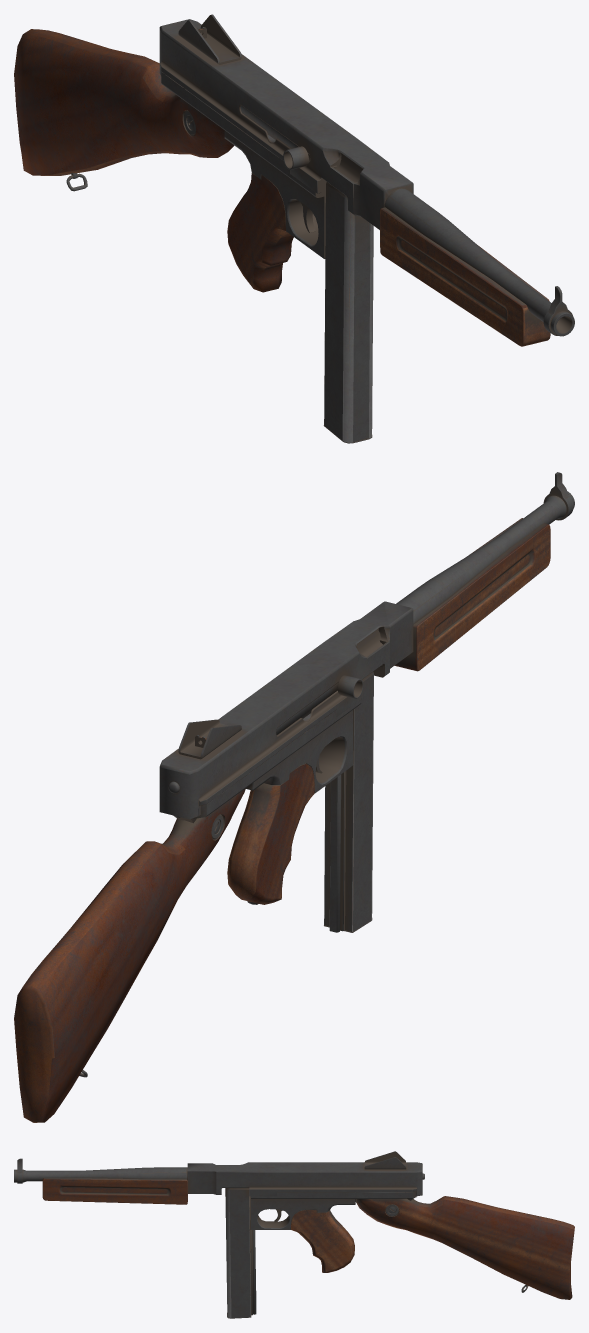
Rendered from thompson_submachine_gun.glb.
3 views of the same model, one above another, from view 1: azimuth 30°, elevation 25°; view 2: azimuth 150°, elevation 25°; view 3: azimuth 270°, elevation 25° (orthographic). The views are drawn at different scales.
Visible parts, largest first — view 1: Cube.004, Cube.019, Cube.000; view 2: Cube.004, Cube.019, Cube.000; view 3: Cube.004, Cube.019.
Part boxes in pixels (x1,y1,x2,y2): Cube.004: (14,14,574,346); Cube.019: (323,182,373,443); Cube.000: (240,105,362,182); Cube.004: (14,472,574,1122); Cube.019: (324,671,373,932); Cube.000: (276,628,382,734); Cube.004: (14,1151,574,1299); Cube.019: (225,1188,256,1318).
Size of the model in its own units: 0.0611 by 0.3089 by 0.9772.
Materials: 1 (1 with a texture image).
